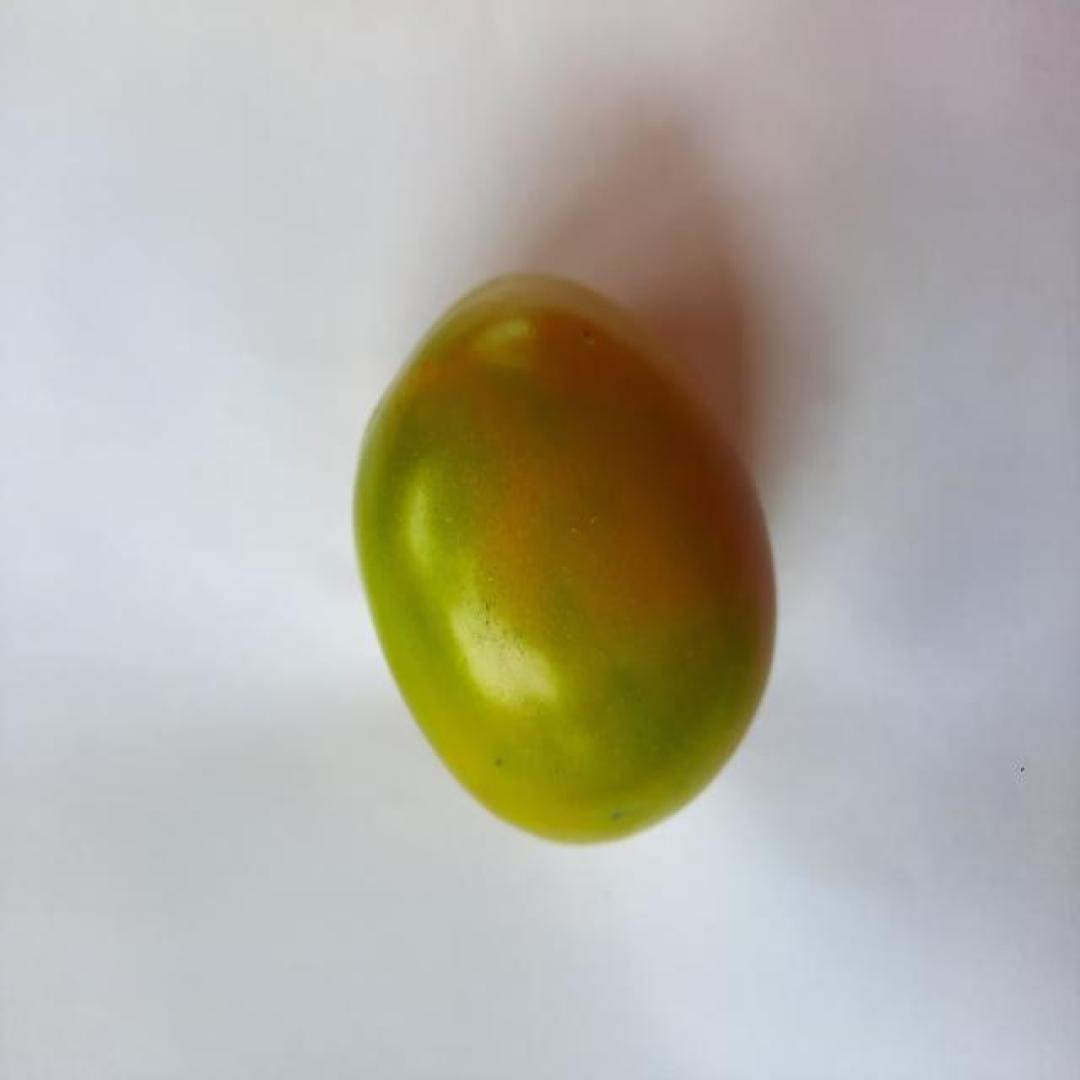setengah_matang: (342, 265, 784, 850)
